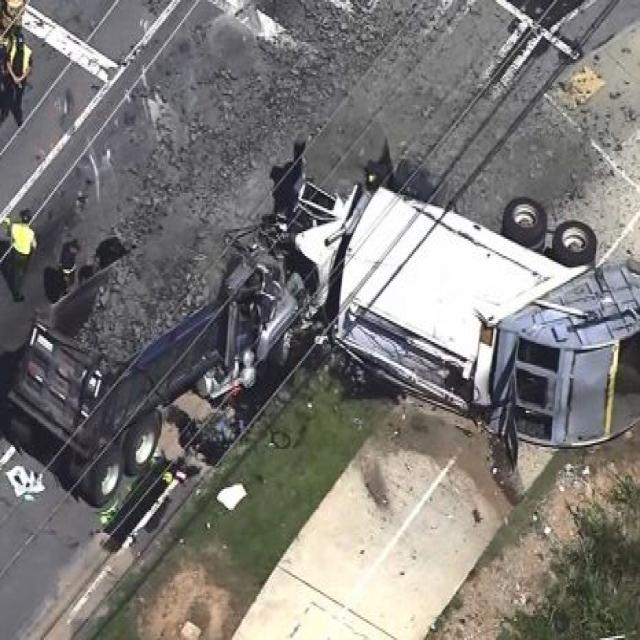traffic_incident: (7, 134, 310, 506), (308, 182, 637, 454)
